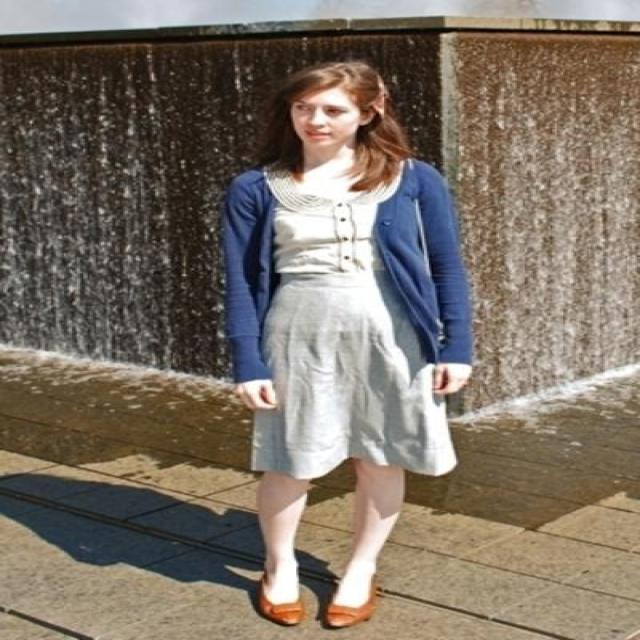dress: (242, 166, 460, 489)
jacket: (213, 148, 502, 382)
shoe: (245, 579, 296, 626)
